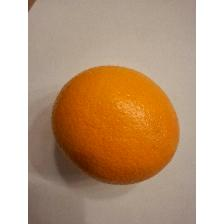Orange: (47, 57, 183, 186)
